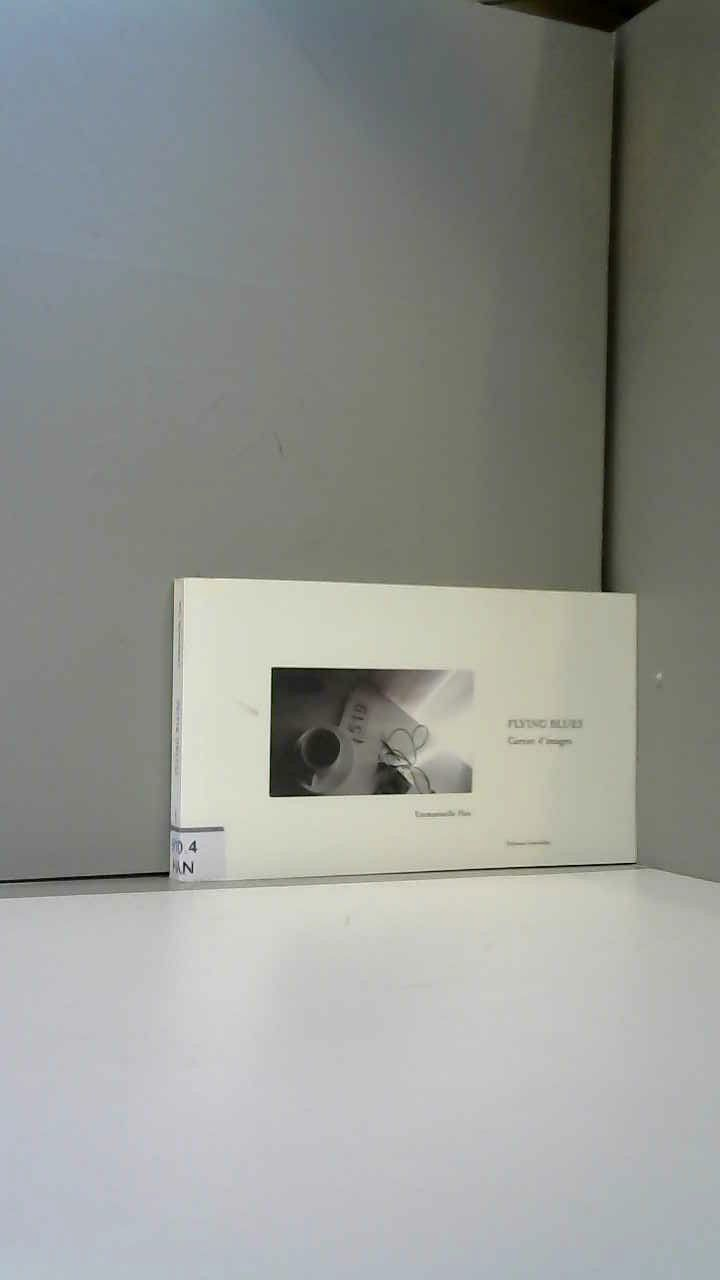book: (155, 560, 658, 902)
